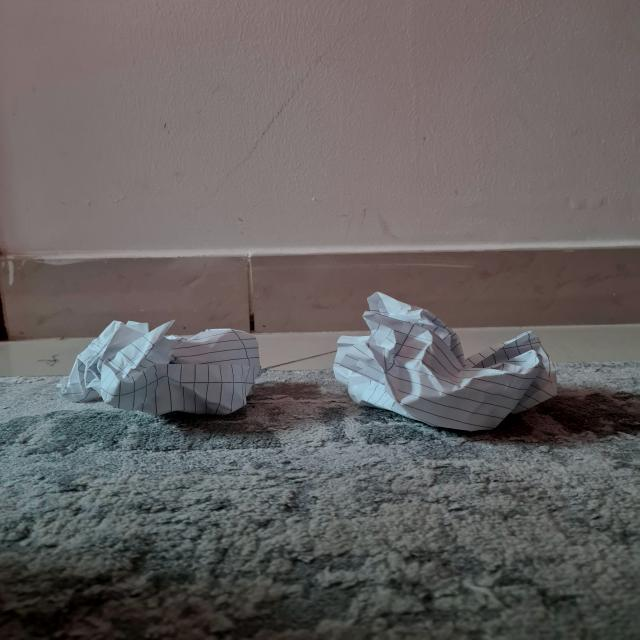Paper: (331, 288, 555, 428), (71, 305, 269, 422)
